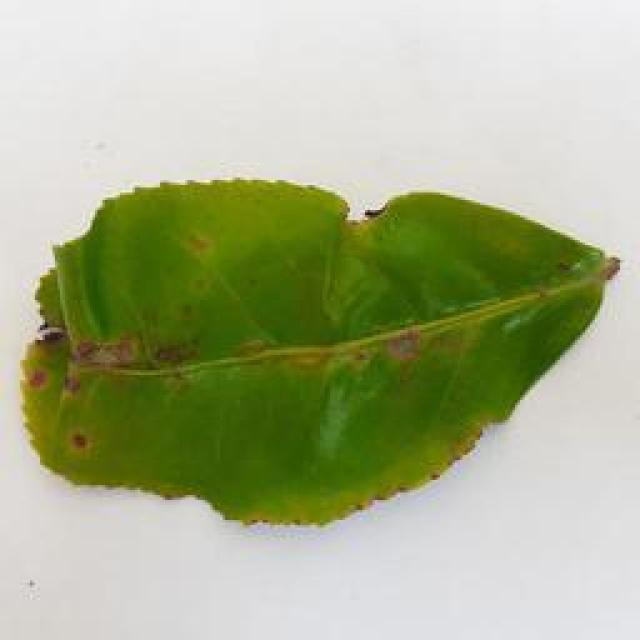Helopeltis: (10, 178, 640, 528)
